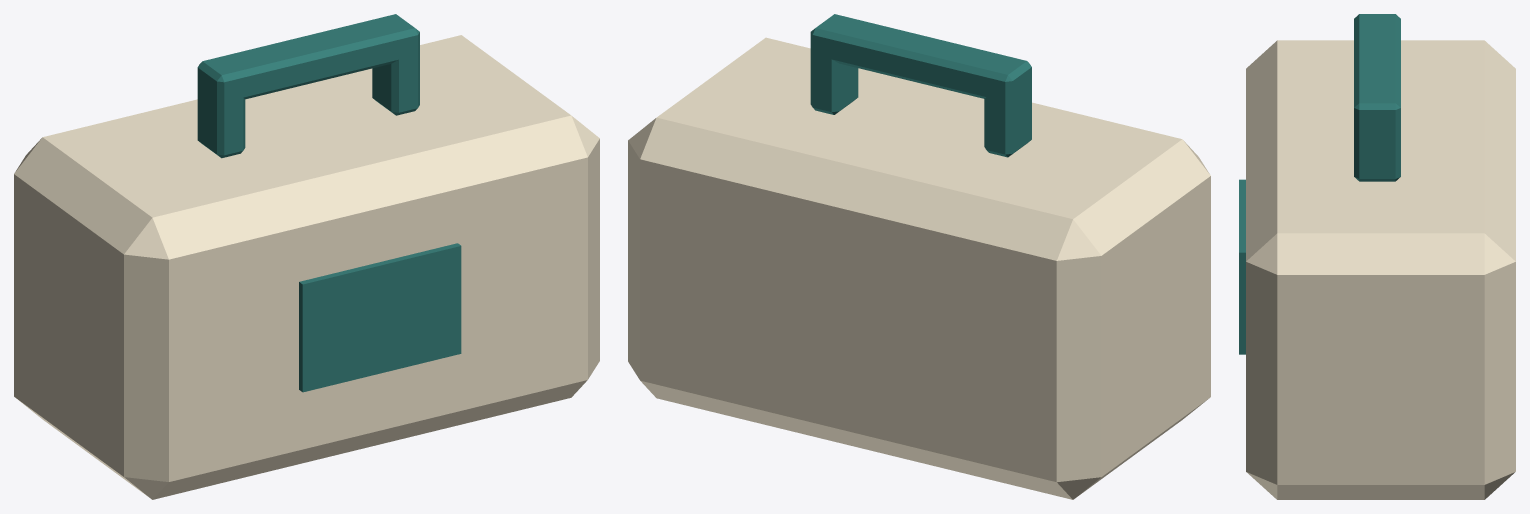
Rendered from aid-kit.glb.
3 renders of one model, left to right at view 1: azimuth 30°, elevation 25°; view 2: azimuth 150°, elevation 25°; view 3: azimuth 270°, elevation 25°, orthographic. The views are drawn at different scales.
Parts seen in each view (by area): view 1: batch-aid-kit-root-cream, batch-aid-kit-root-teal; view 2: batch-aid-kit-root-cream, batch-aid-kit-root-teal; view 3: batch-aid-kit-root-cream, batch-aid-kit-root-teal.
Boxes of the visible parts, box(x1,y1,x2,y2) form: batch-aid-kit-root-cream: box(14, 35, 599, 499); batch-aid-kit-root-teal: box(197, 14, 461, 392); batch-aid-kit-root-cream: box(628, 37, 1210, 499); batch-aid-kit-root-teal: box(810, 14, 1031, 157); batch-aid-kit-root-cream: box(1246, 40, 1515, 499); batch-aid-kit-root-teal: box(1239, 14, 1400, 354).
Size of the model in its own units: 0.3 by 0.22 by 0.16.
